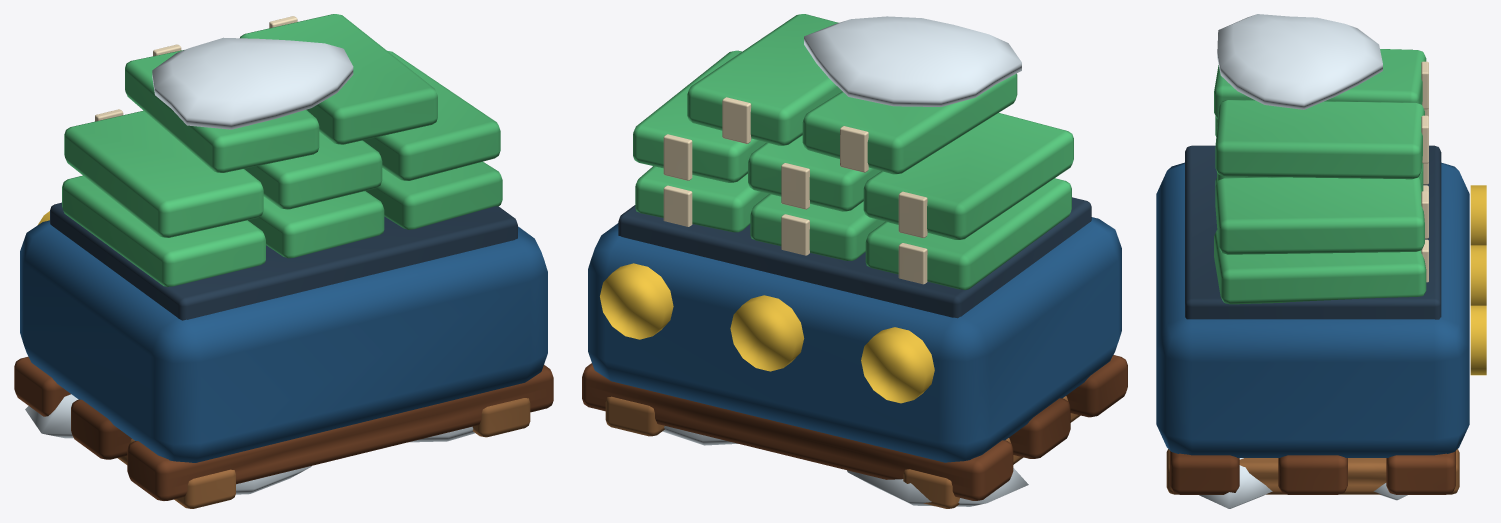
The model's file is money_stack.glb.
3 renders of one model, left to right at view 1: azimuth 30°, elevation 25°; view 2: azimuth 150°, elevation 25°; view 3: azimuth 270°, elevation 25°, orthographic. The views are drawn at different scales.
Parts seen in each view (by area): view 1: money_stack; view 2: money_stack; view 3: money_stack.
Boxes of the visible parts, x1,y1,x2,y2 form: money_stack: (14, 14, 553, 508); money_stack: (582, 14, 1127, 508); money_stack: (1156, 14, 1486, 508).
Bounding box in the file's own units: 1.29 × 1.15 × 0.9275.
